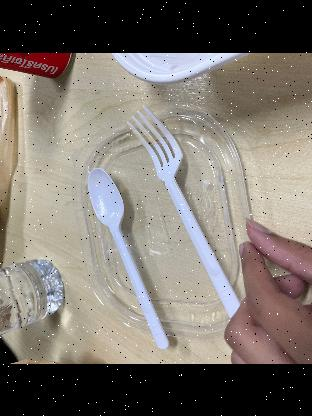Others: (124, 106, 238, 322), (80, 164, 176, 356)
